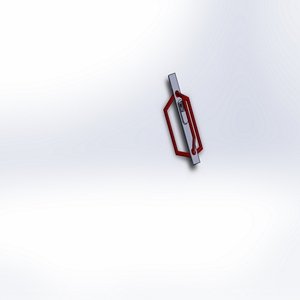submarine: (140, 66, 219, 178)
